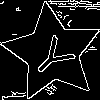Y: (27, 28, 83, 83)
